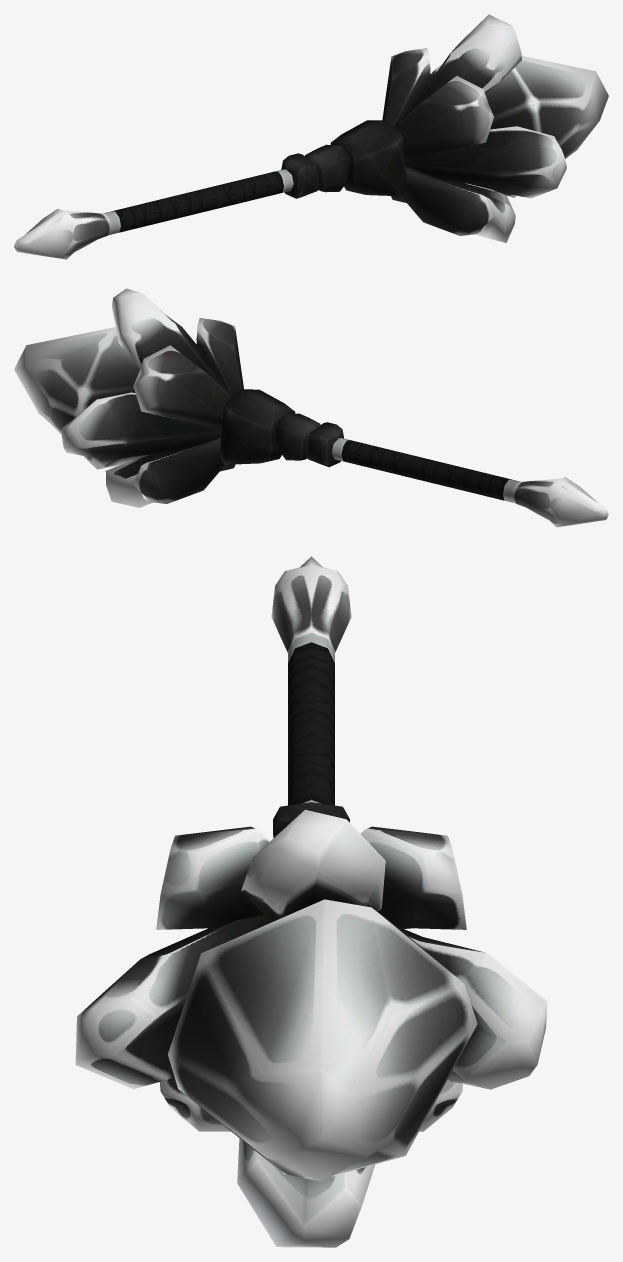
The model's file is item_weastamgm2501-et07.glb.
3 renders of one model, top to bottom at view 1: azimuth 30°, elevation 25°; view 2: azimuth 150°, elevation 25°; view 3: azimuth 270°, elevation 25°, orthographic. The views are drawn at different scales.
Visible parts, largest first — view 1: FlyffMesh; view 2: FlyffMesh; view 3: FlyffMesh.
Part boxes in pixels (left/top/right/bottom): FlyffMesh: left=14, top=14, right=608, bottom=259; FlyffMesh: left=14, top=288, right=608, bottom=527; FlyffMesh: left=75, top=556, right=547, bottom=1247.
Size of the model in its own units: 1.76 by 0.6081 by 0.6081.
Materials: 1 (1 with a texture image).
